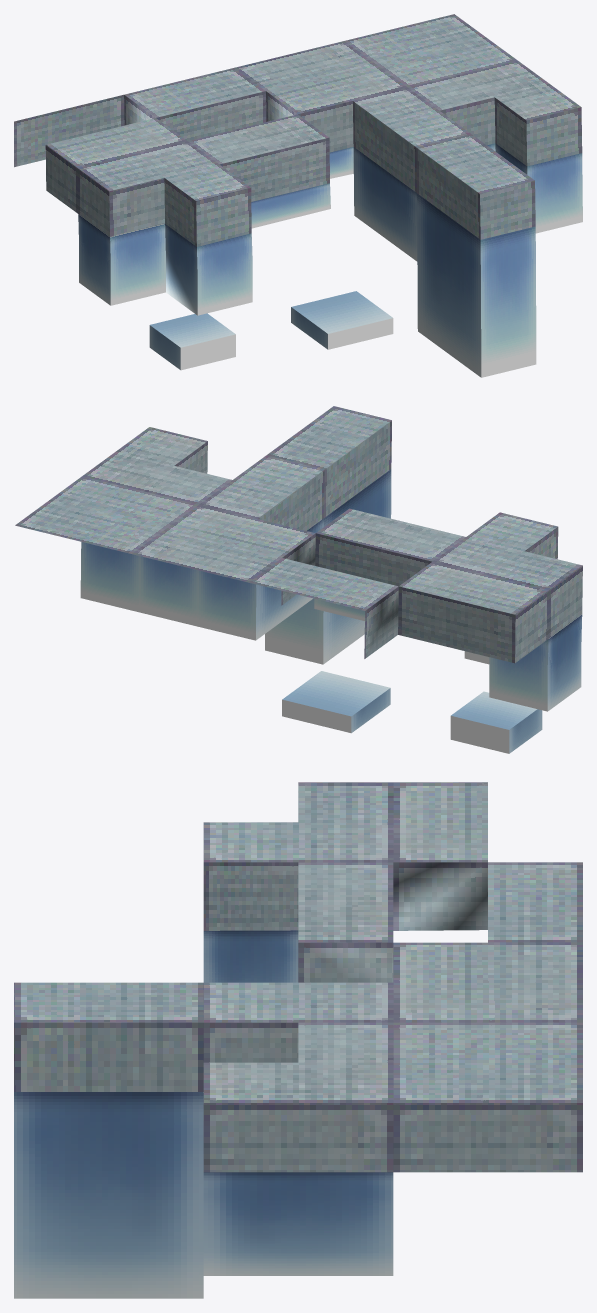
The model's file is a_ESDwall01e.glb.
3 views of the same model, one above another, from view 1: azimuth 30°, elevation 25°; view 2: azimuth 150°, elevation 25°; view 3: azimuth 270°, elevation 25° (orthographic). The views are drawn at different scales.
Parts seen in each view (by area): view 1: a_ESDwall01e; view 2: a_ESDwall01e; view 3: a_ESDwall01e.
Part boxes in pixels (x1,y1,x2,y2): a_ESDwall01e: [14, 14, 582, 377]; a_ESDwall01e: [15, 406, 582, 753]; a_ESDwall01e: [14, 782, 582, 1298].
Size of the model in its own units: 2.01 by 0.8403 by 1.5.
2 materials, 2 textured.
